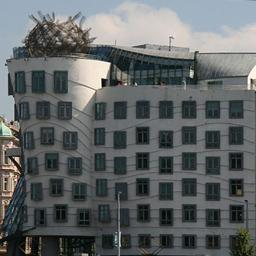building: (11, 2, 256, 256)
